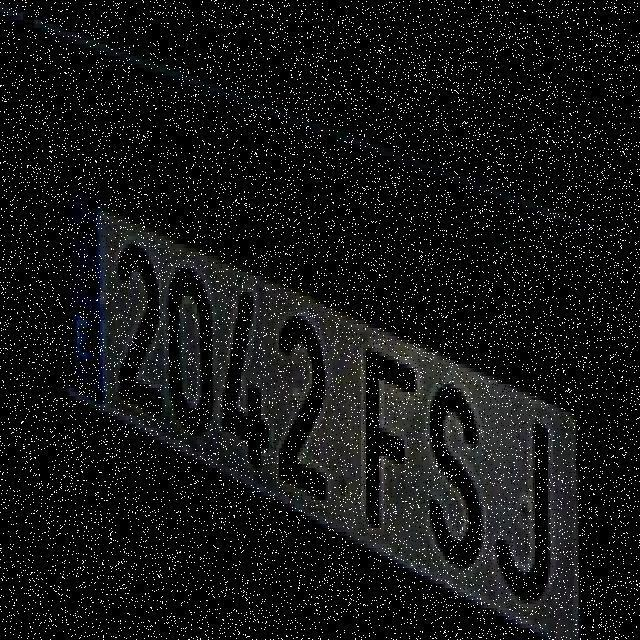LicensePlate: (51, 168, 586, 640)
